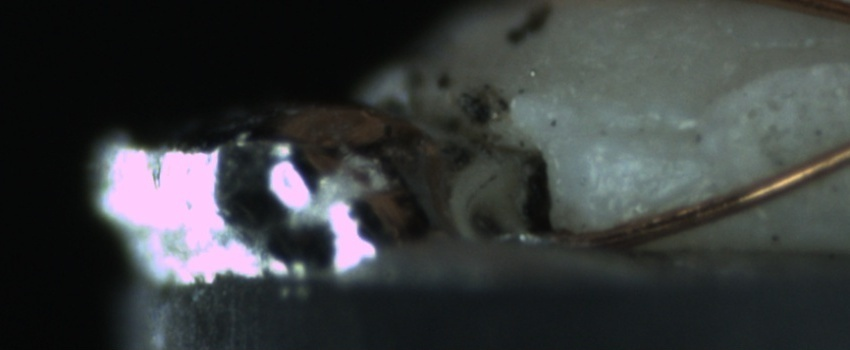DL: (578, 98, 708, 165)
